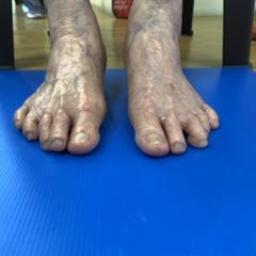Front View -Both Feet-: (3, 6, 235, 168)
